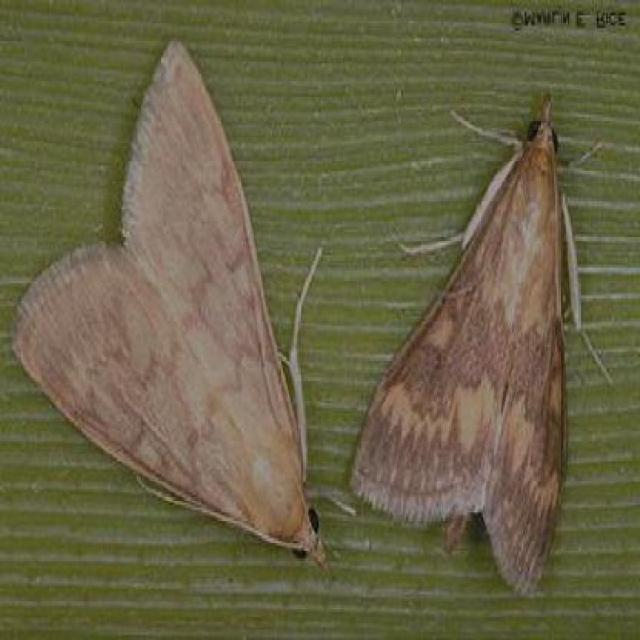stem-borer: (11, 37, 342, 586), (348, 84, 612, 598)
